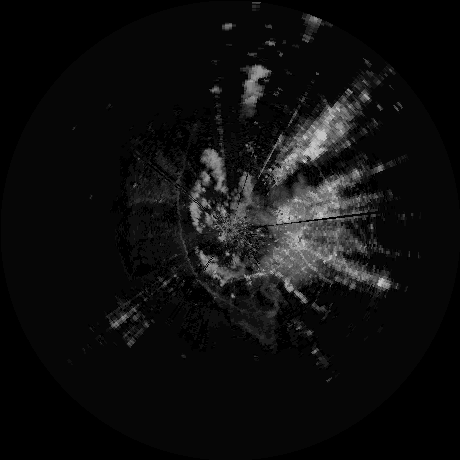frontgust: (175, 164, 232, 304)
